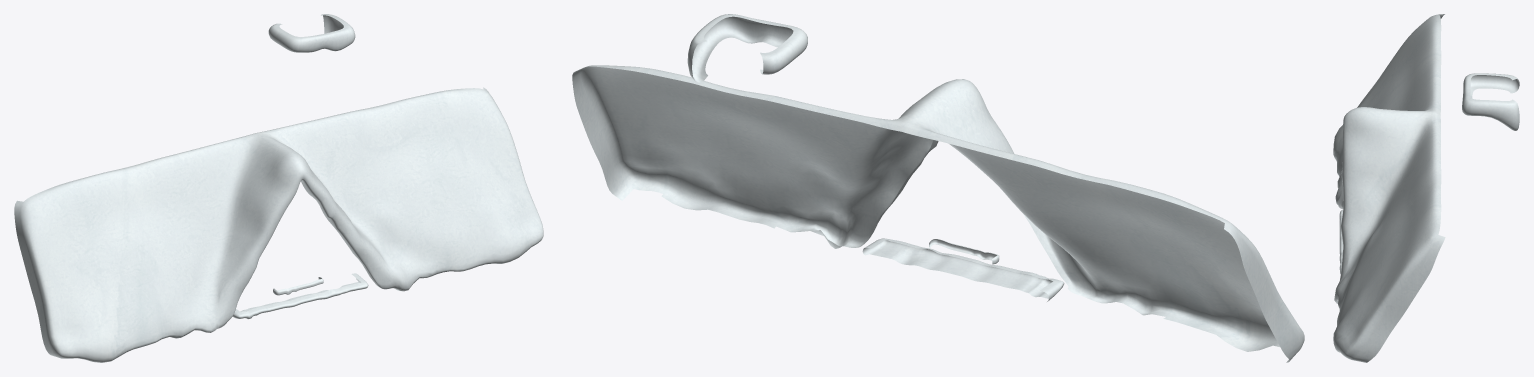
File: ChristmasRoom_WallSnowA.fbx
The picture shows the model from 3 angles, left to right: view 1: azimuth 30°, elevation 25°; view 2: azimuth 150°, elevation 25°; view 3: azimuth 270°, elevation 25°; orthographic projection. The views are drawn at different scales.
Visible parts, largest first — view 1: ChristmasRoom_WallSnowA; view 2: ChristmasRoom_WallSnowA; view 3: ChristmasRoom_WallSnowA.
Part boxes in pixels (x1=…): ChristmasRoom_WallSnowA: x1=14, y1=14, x2=543, y2=362; ChristmasRoom_WallSnowA: x1=572, y1=14, x2=1304, y2=362; ChristmasRoom_WallSnowA: x1=1333, y1=14, x2=1519, y2=362.
Size of the model in its own units: 1006 by 420 by 337.
